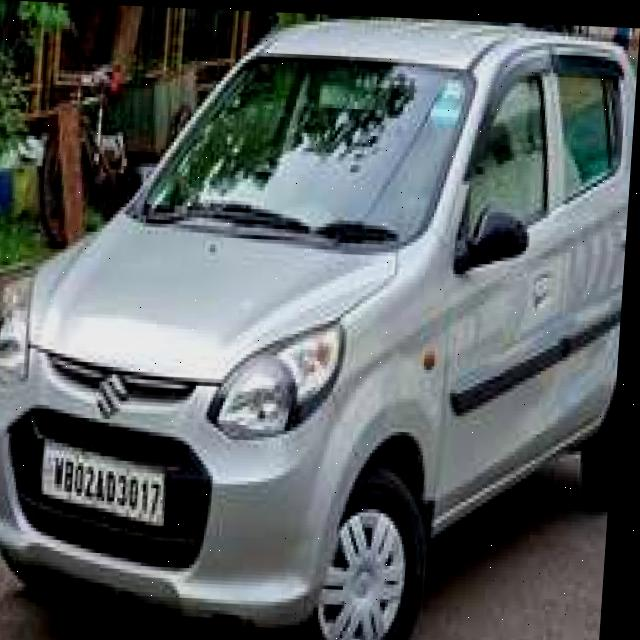plate: (44, 438, 178, 530)
